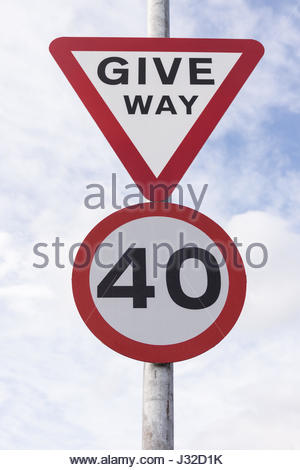Speed_limit_40km: (66, 200, 252, 367)
